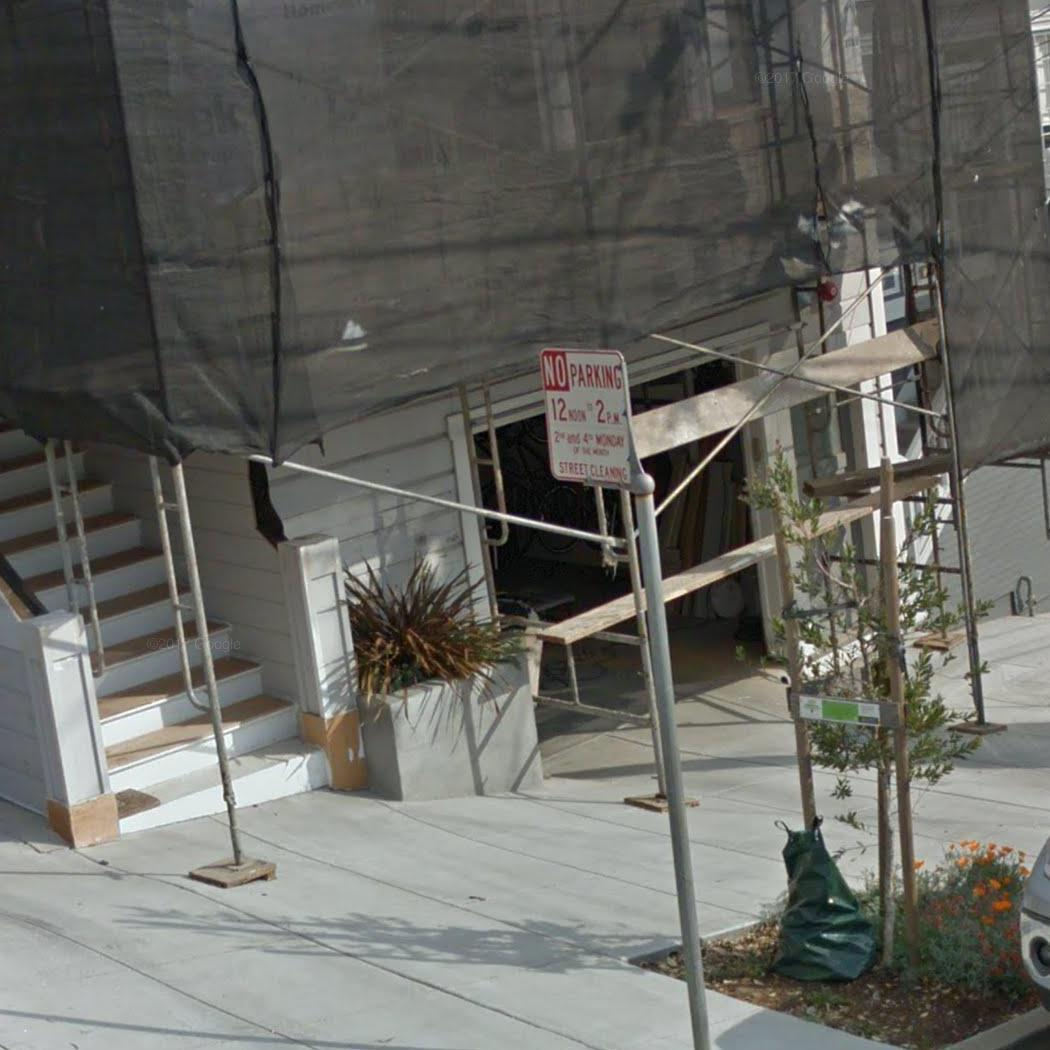No Parking: (534, 341, 640, 498)
